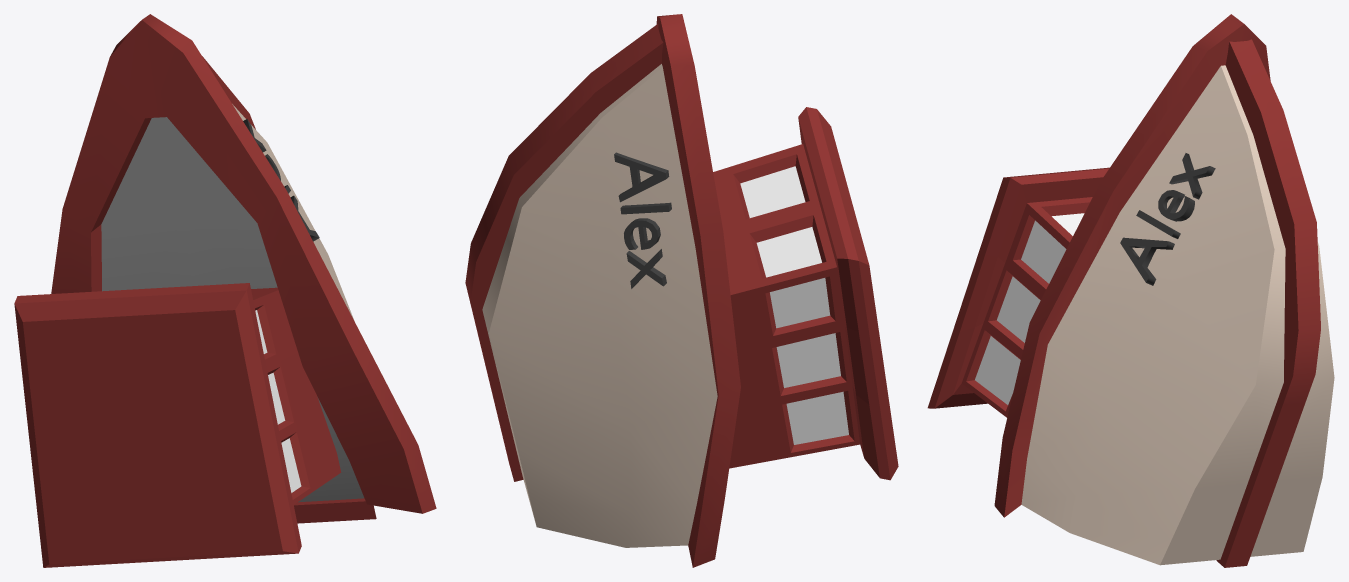
Rendered from M_Shipwreak_Obstacle_Part_0.fbx.
The picture shows the model from 3 angles, left to right: view 1: azimuth 30°, elevation 25°; view 2: azimuth 150°, elevation 25°; view 3: azimuth 270°, elevation 25°; orthographic projection. The views are drawn at different scales.
Visible parts, largest first — view 1: M_Shipwreak_Obstacle_Part_0; view 2: M_Shipwreak_Obstacle_Part_0; view 3: M_Shipwreak_Obstacle_Part_0.
Boxes of the visible parts, box(x1,y1,x2,y2) form: M_Shipwreak_Obstacle_Part_0: box(14, 14, 436, 567); M_Shipwreak_Obstacle_Part_0: box(465, 14, 898, 567); M_Shipwreak_Obstacle_Part_0: box(927, 14, 1334, 567).
Bounding box in the file's own units: 495 × 664 × 494.
